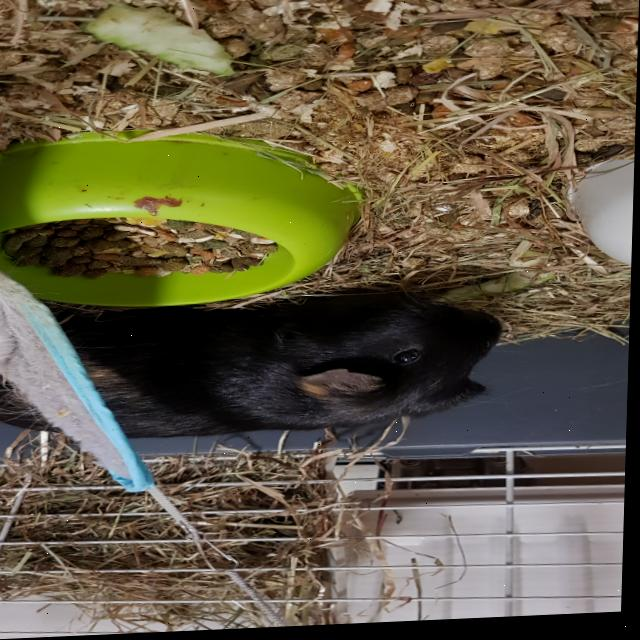guinea pig: (0, 285, 517, 450)
